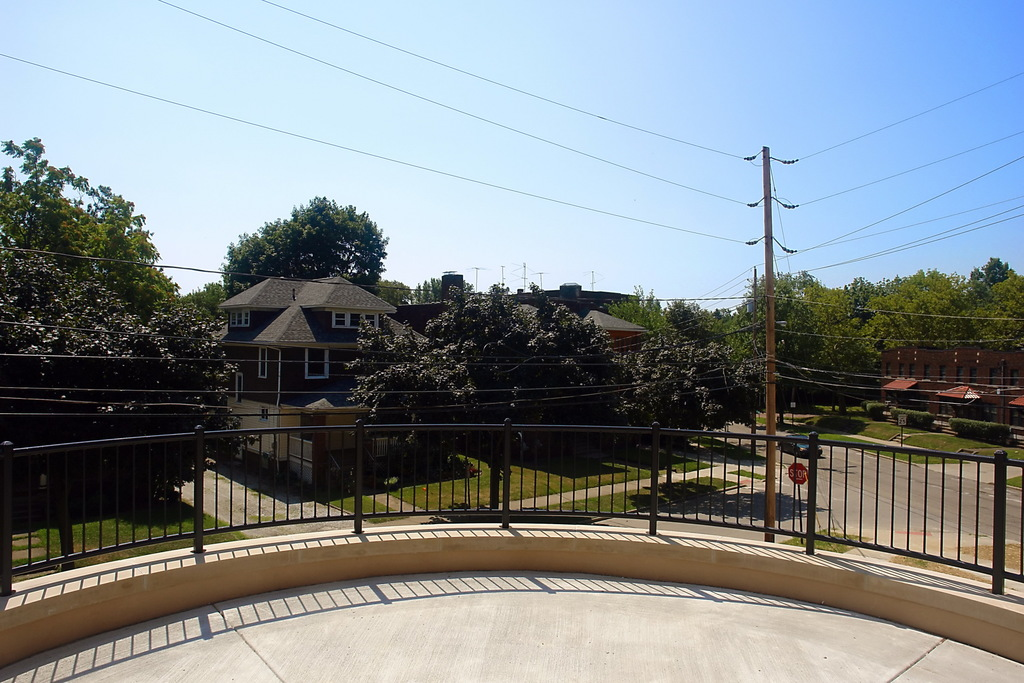Tree: (0, 256, 241, 561), (603, 253, 1023, 410), (0, 137, 177, 314), (430, 278, 615, 430), (343, 317, 478, 452), (226, 192, 396, 284), (616, 335, 764, 438), (182, 280, 230, 319)
